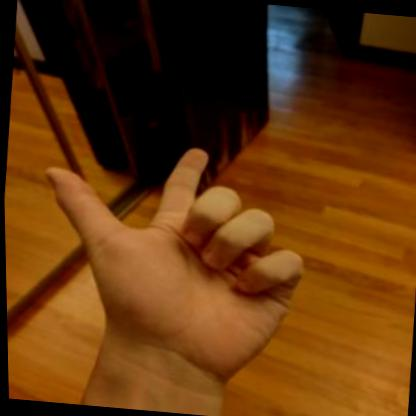L: (6, 116, 332, 392)
